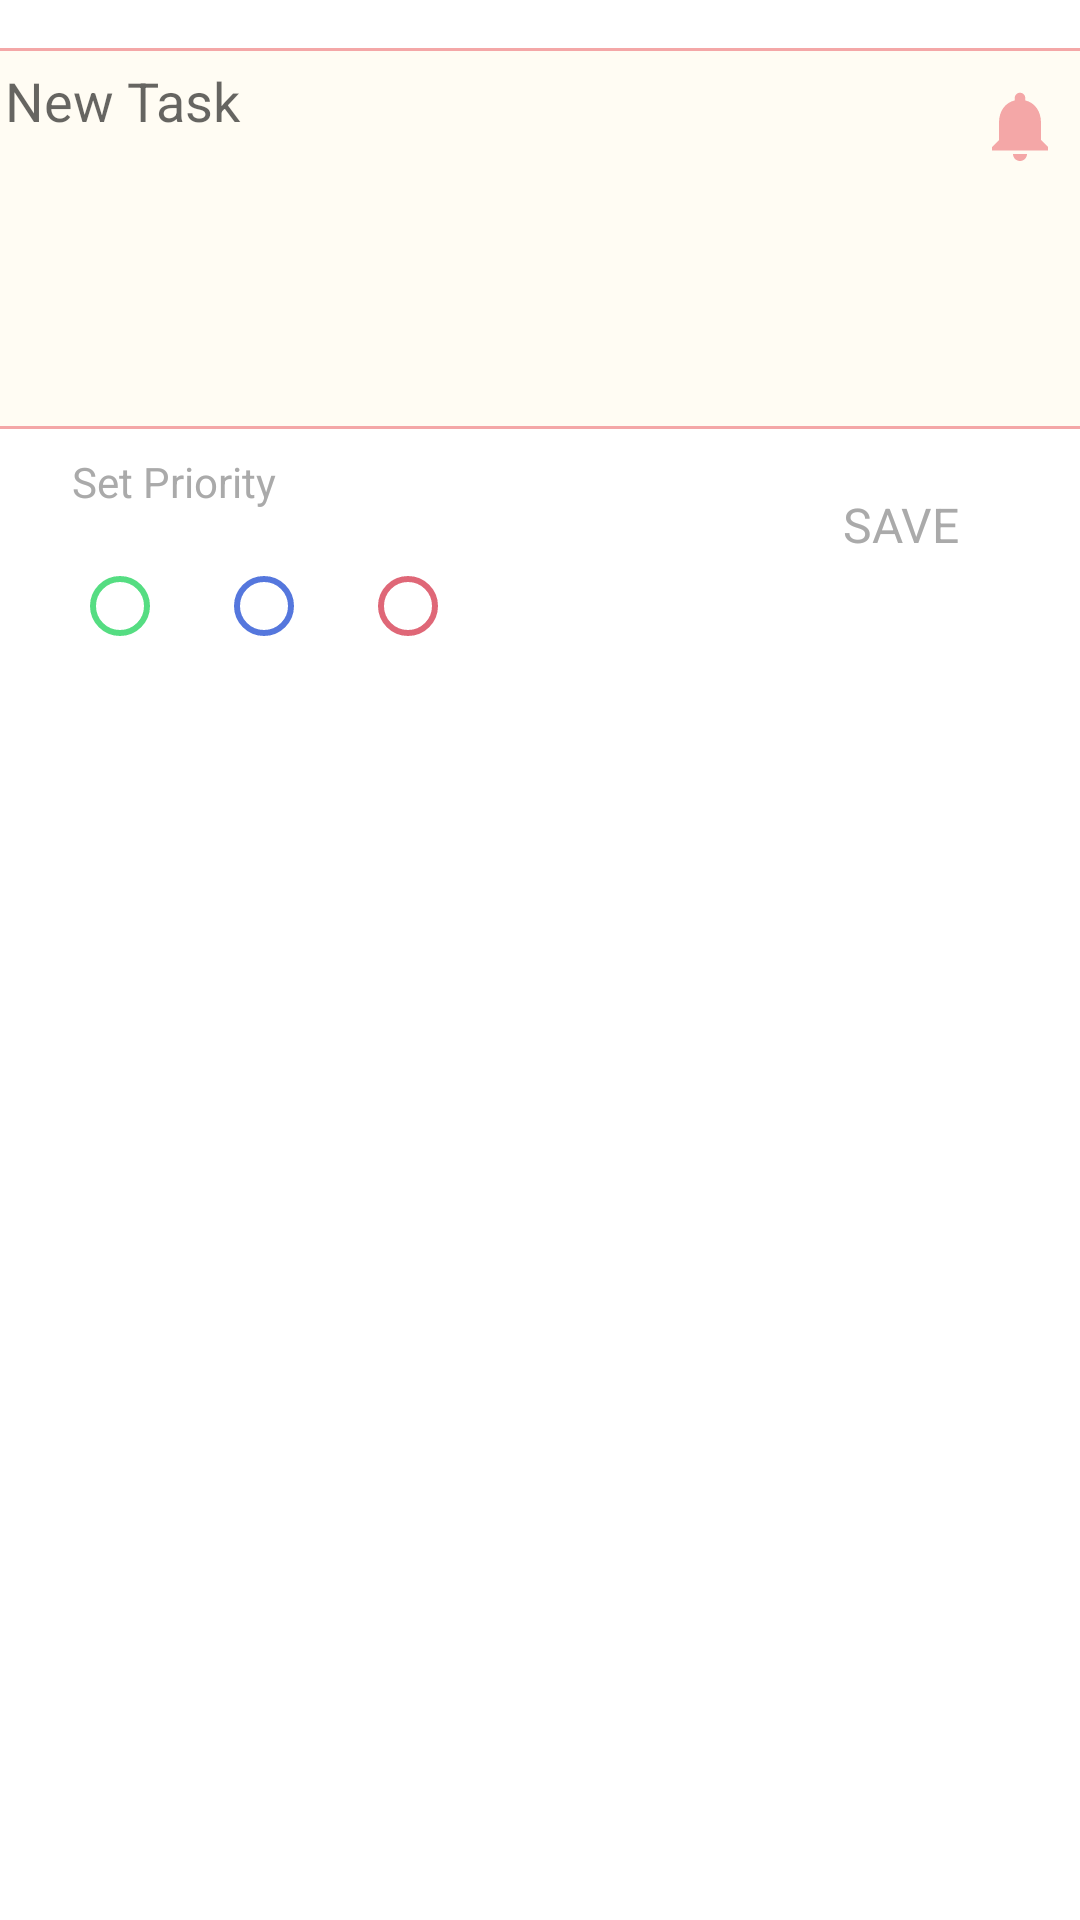

Where to tap for icons on this 1080 x 1920 app screen, as (x=x, y=y):
notify: (x=1020, y=127)
